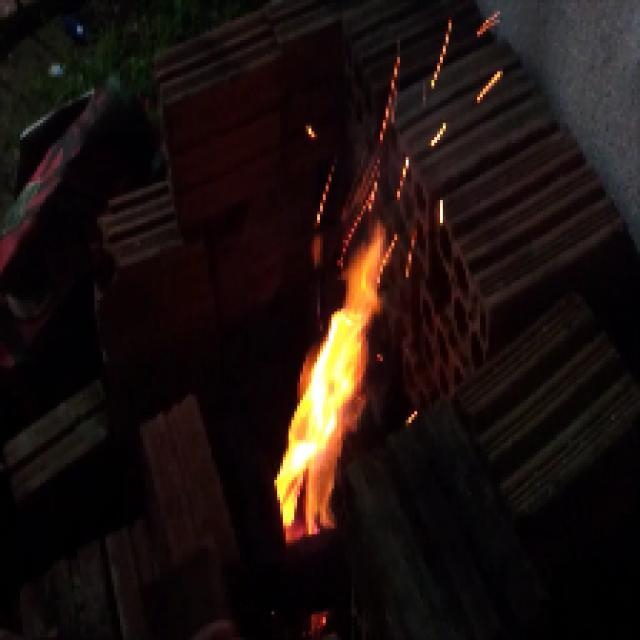Fire: (280, 232, 388, 549)
